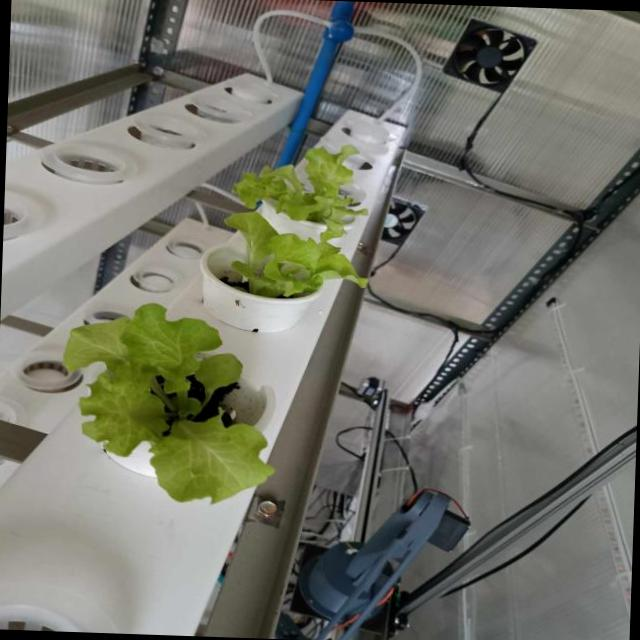Lettuce-Not-Ready-to-Harvest: (61, 302, 275, 505), (231, 145, 367, 241), (222, 211, 367, 299)
